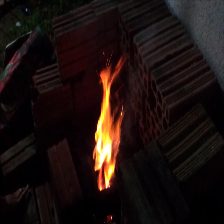fire_h: (94, 56, 123, 190)
fire_l: (108, 215, 112, 219)
